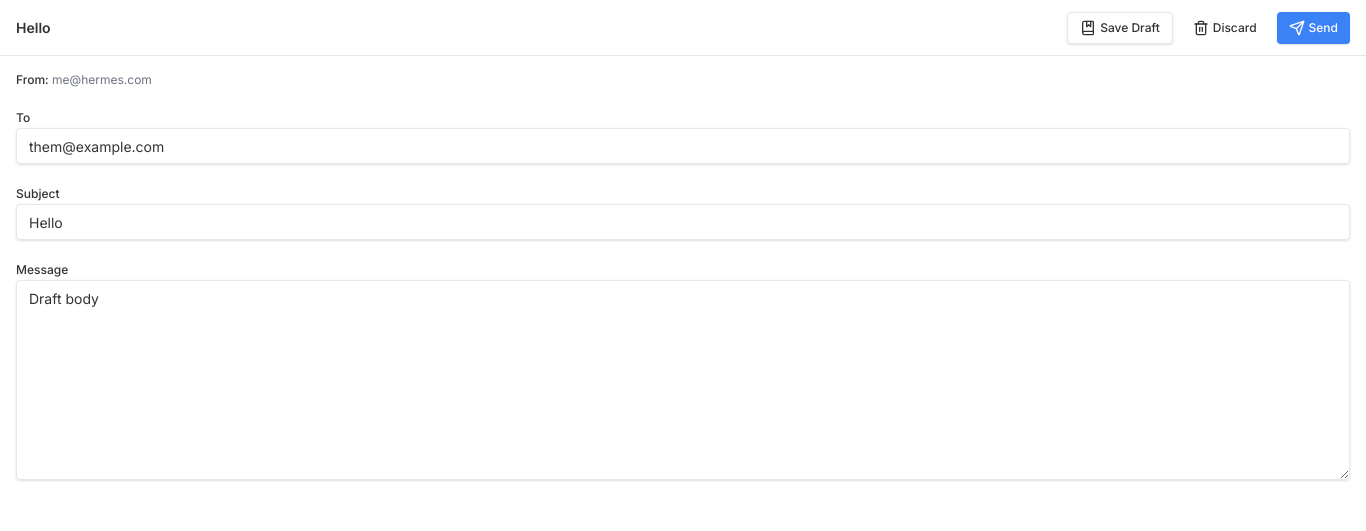
Test: ComposeEditor › Send › shows error when send fails
Click the button with test id "compose-send-button".
click(1313, 28)  # box 1277,12 -> 1350,44
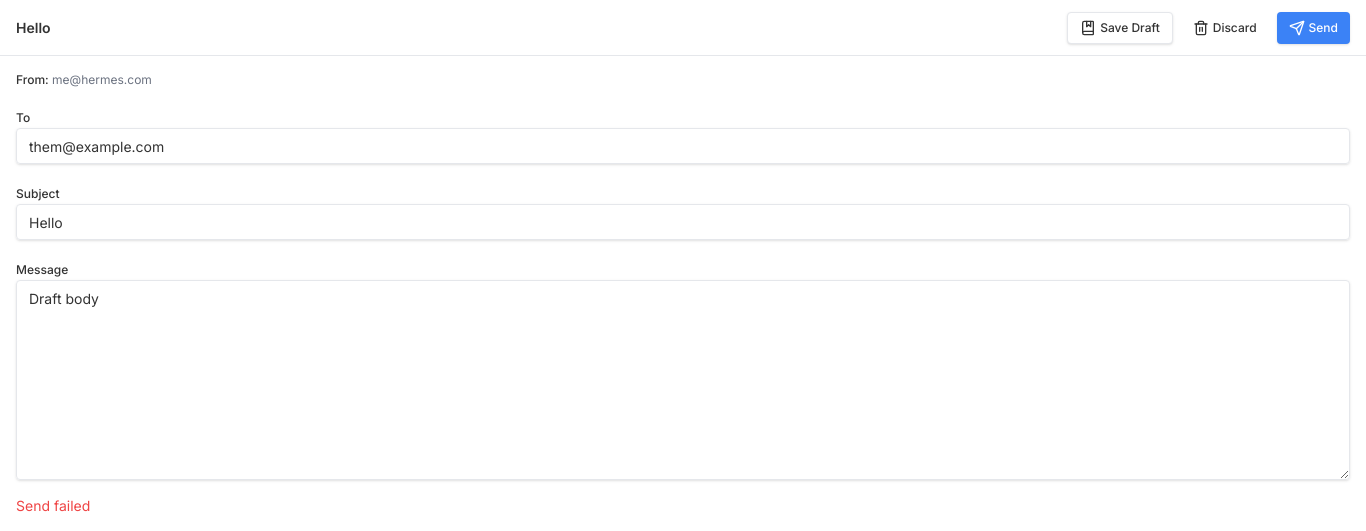
Result: the message "Send failed" is shown at 16,497 -> 90,514
